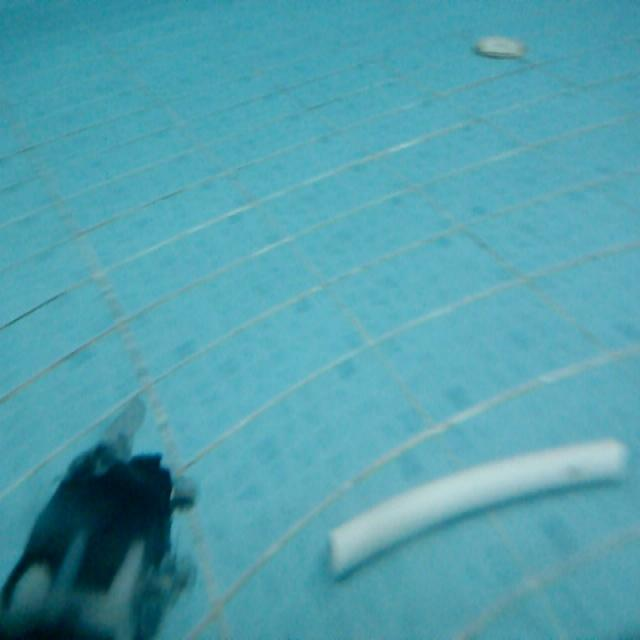Cube: (322, 431, 629, 581)
